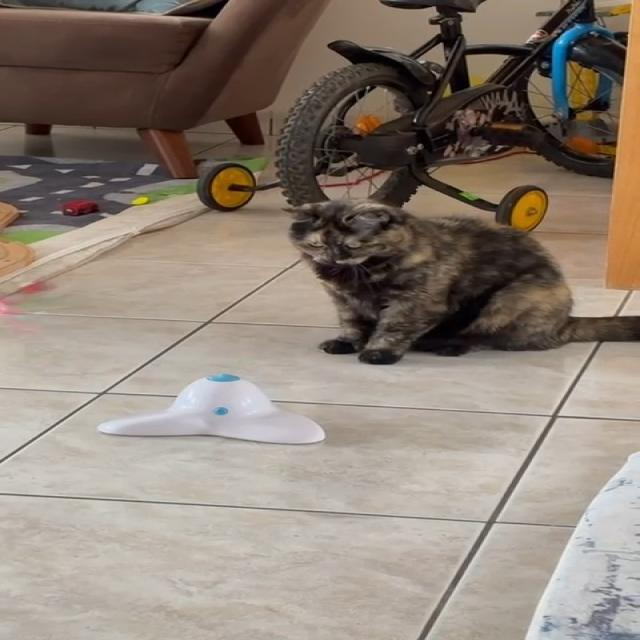authorized: (280, 197, 639, 365)
